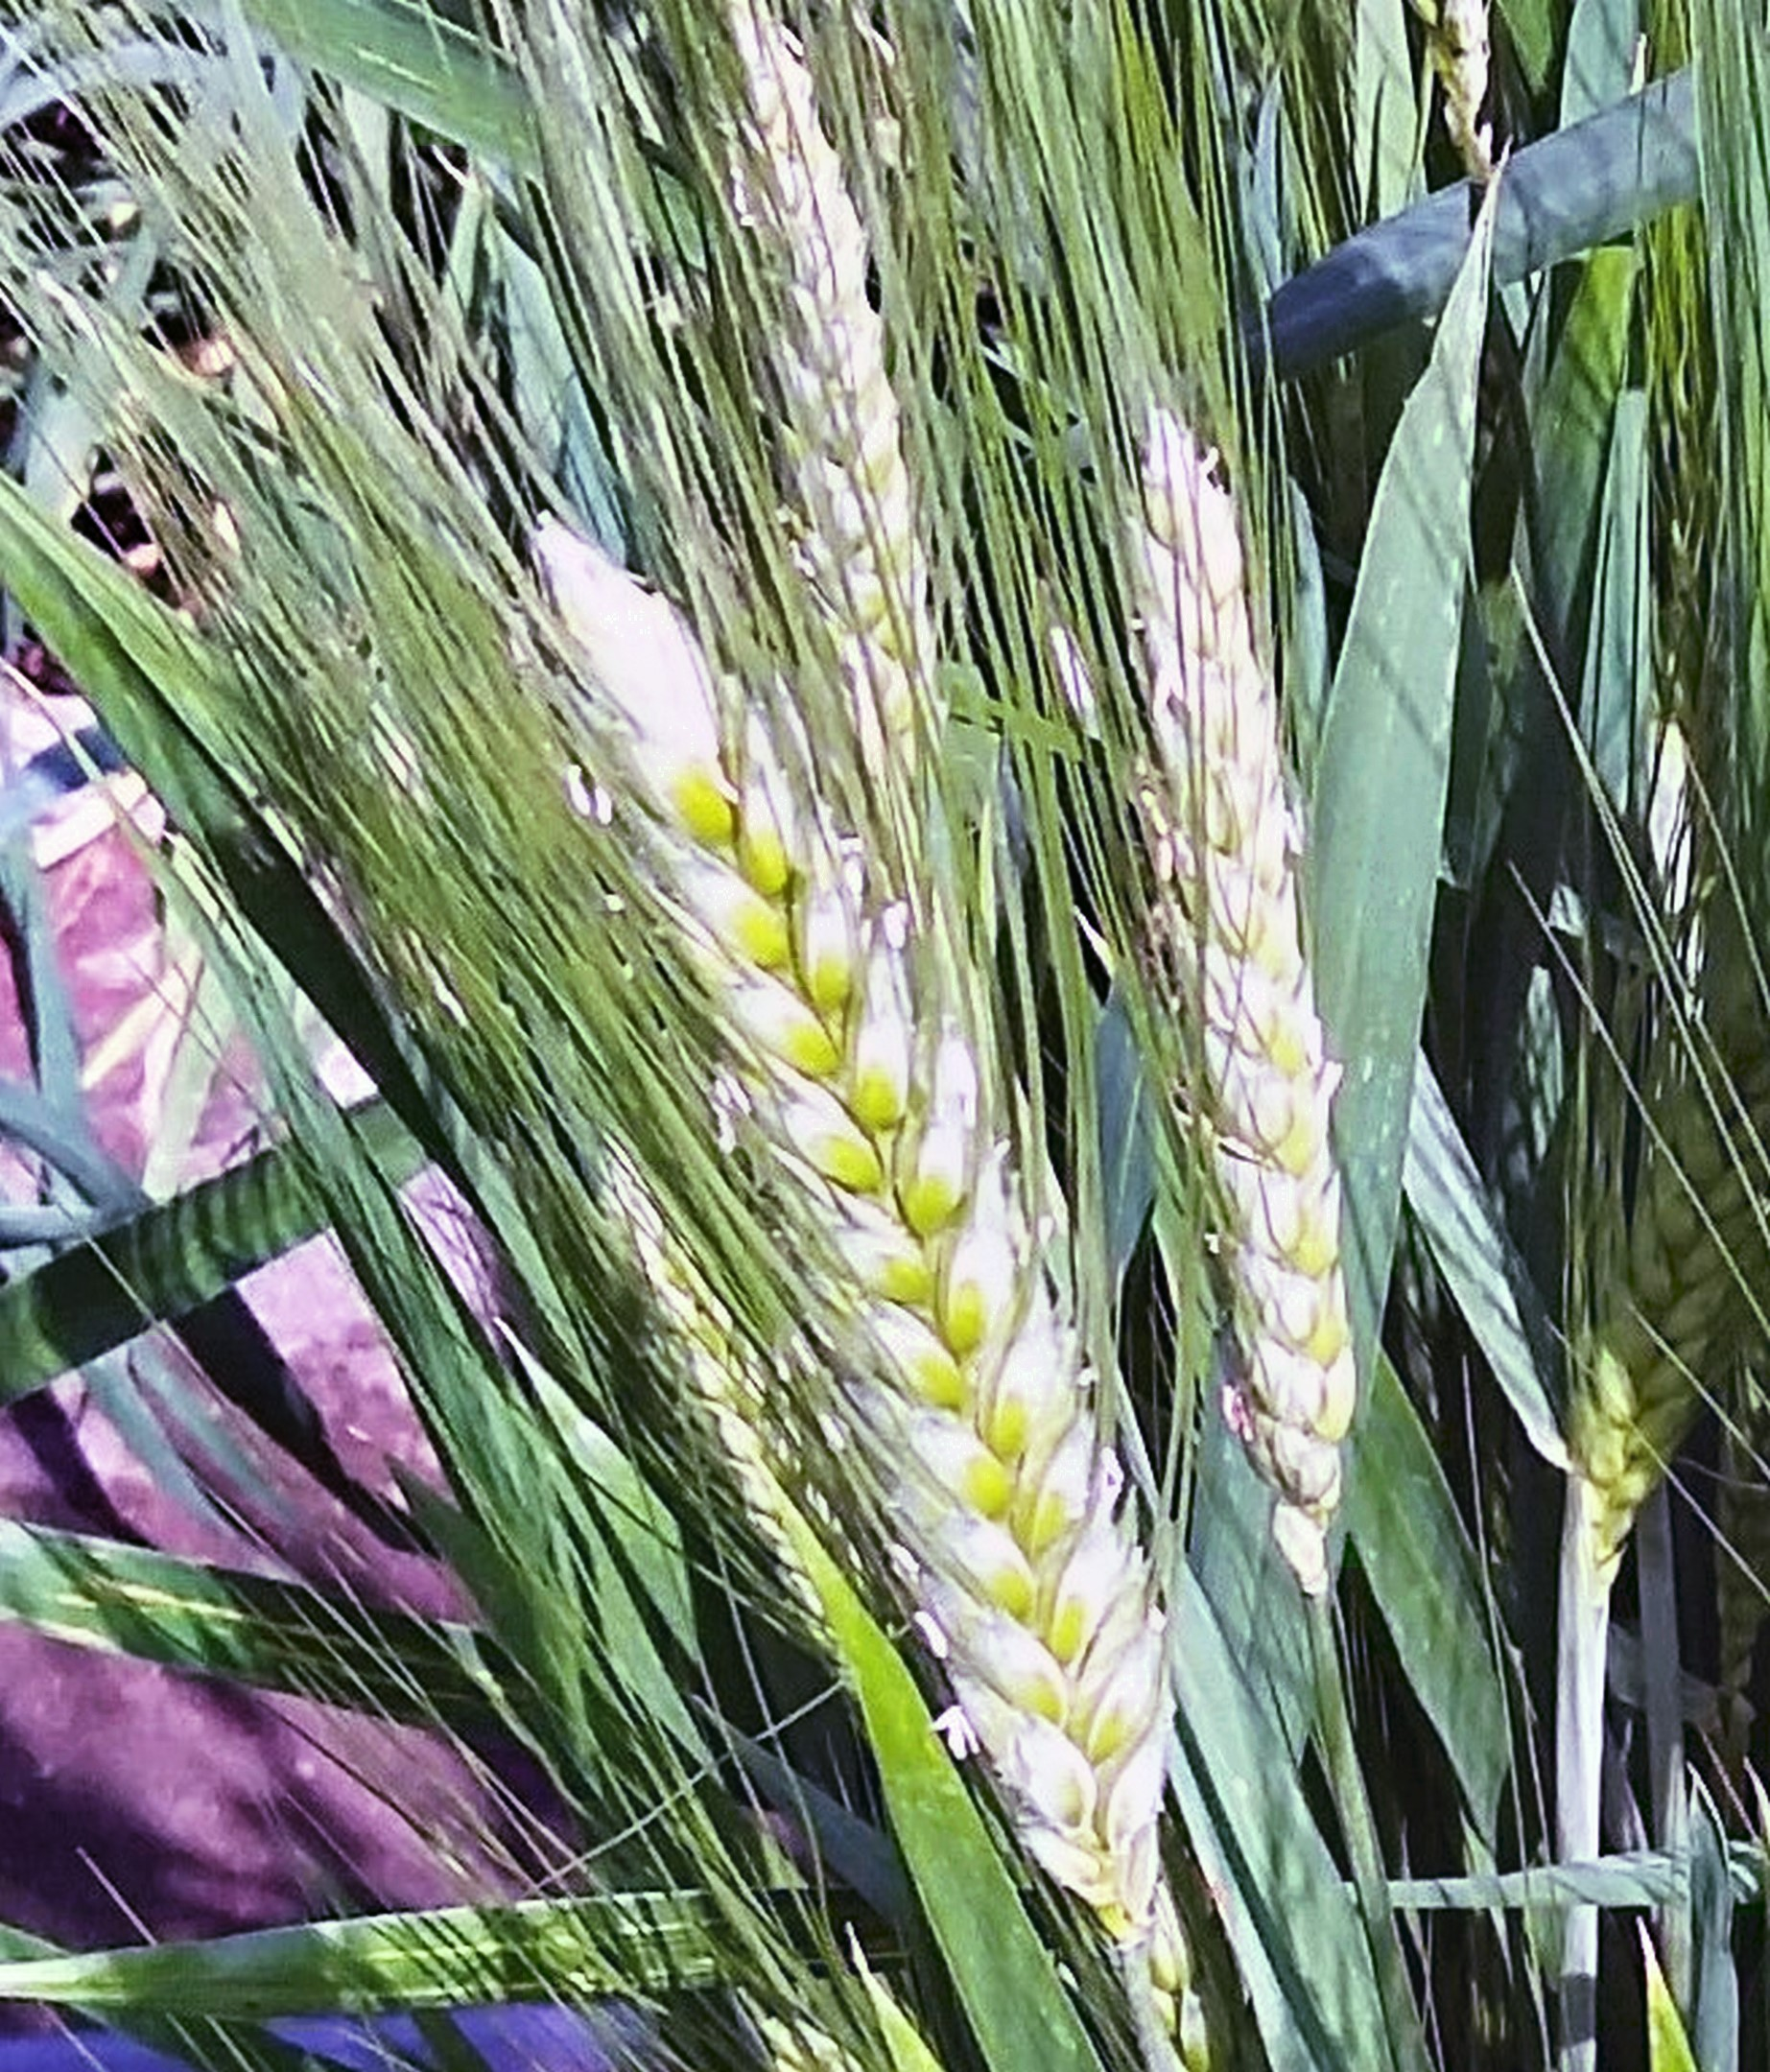Healthy Wheat: (643, 741, 1219, 1903)
